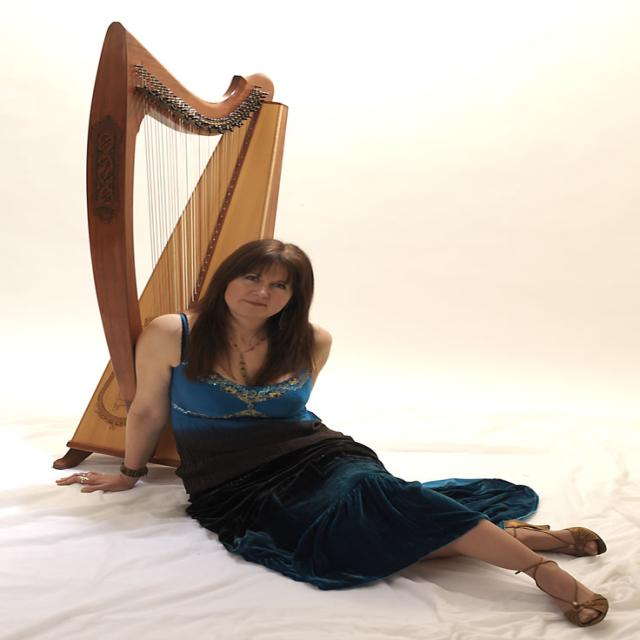harp: (55, 10, 288, 472)
